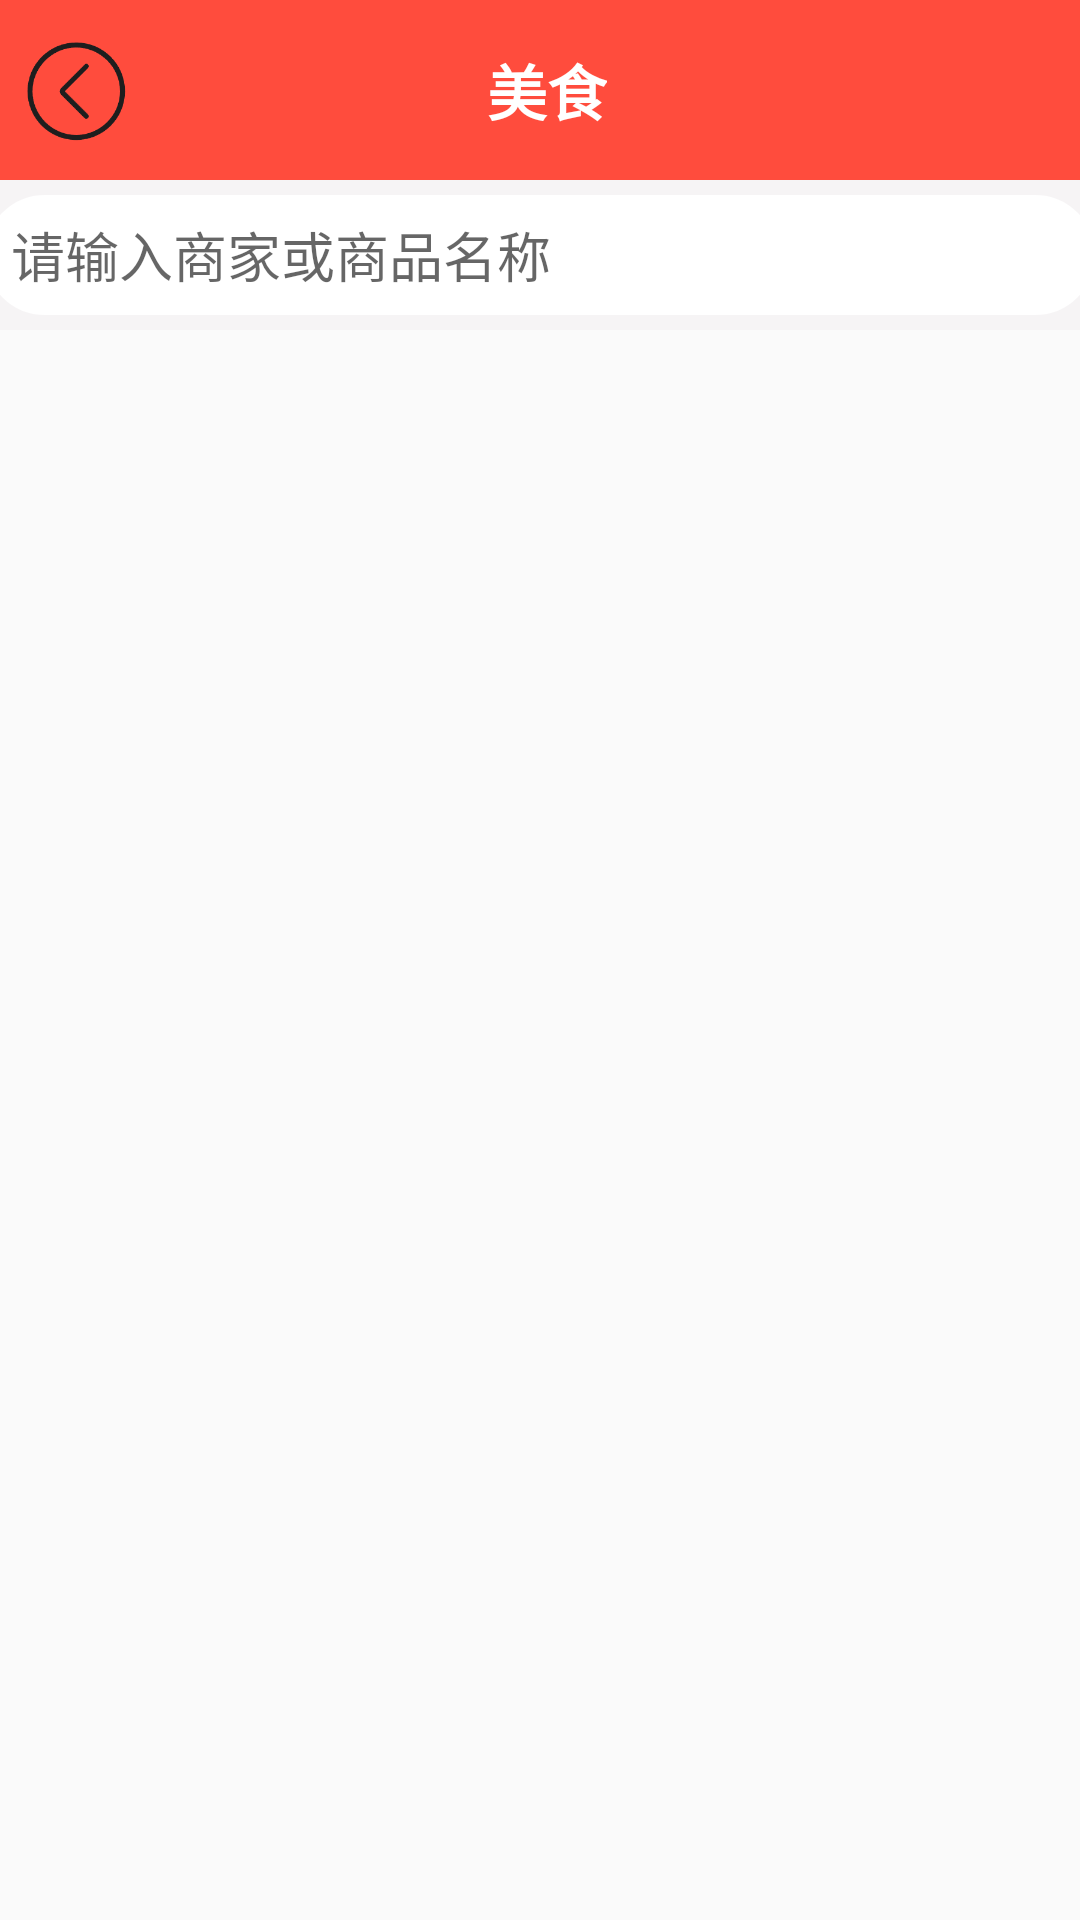

Screen size 1080×1920. Icon name, then its box in pixels as (x1, y1, x2, y2):
back: (27, 42, 126, 140)
